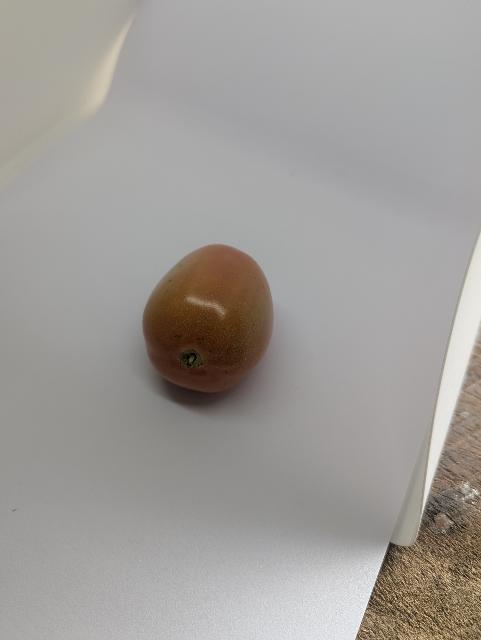turning: (138, 239, 280, 400)
